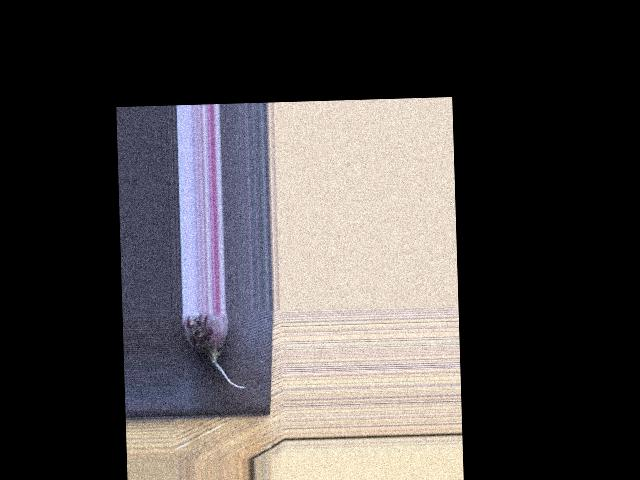beet: (181, 311, 245, 390)
